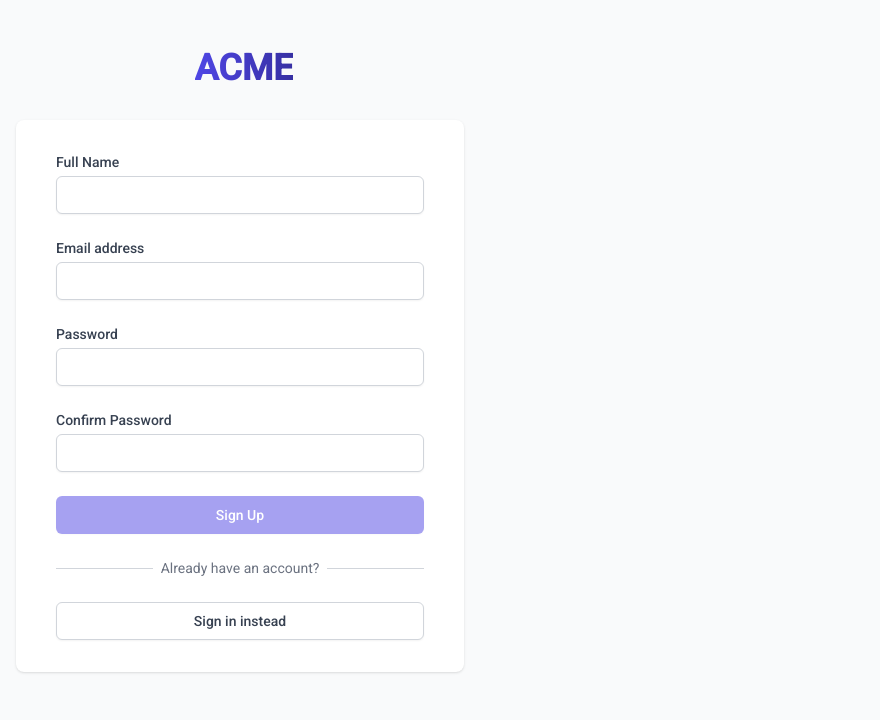
it: Sign Up › Registration Flow › should handle existing email error
Type "Existing User" into the field named "name" at (240, 195), box x1=56 y1=176 x2=424 y2=214
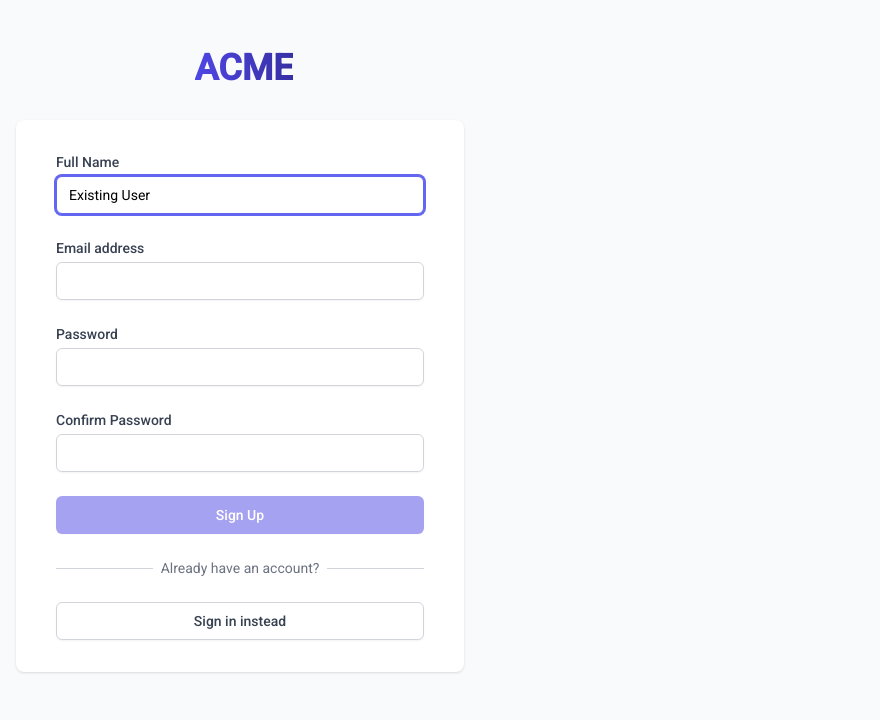
Type "existing@example.com" into the field named "email" at (240, 281), box x1=56 y1=262 x2=424 y2=300
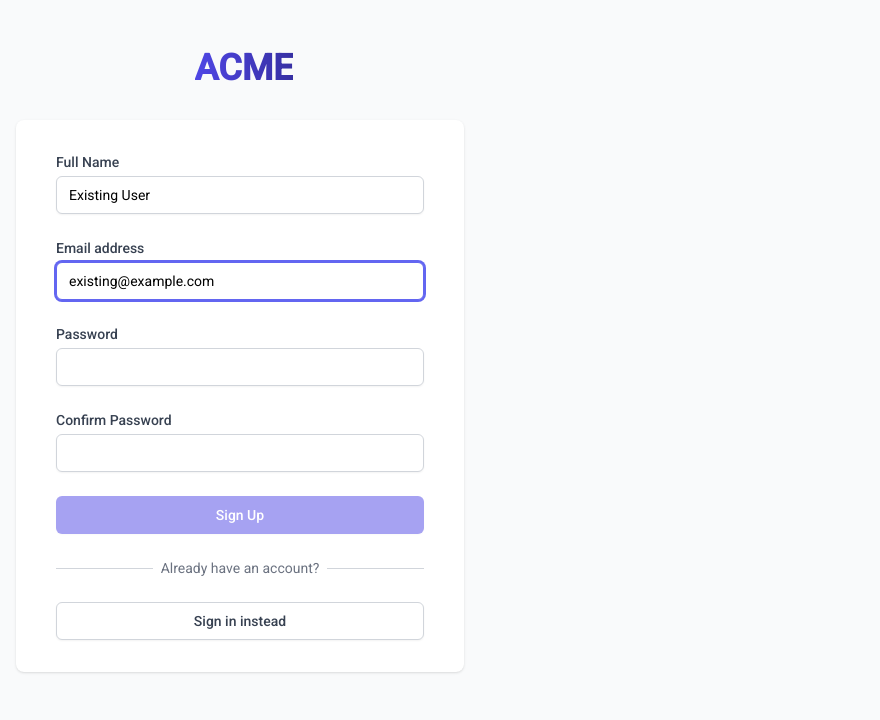
Type "password123" into the password field named "password" at (240, 367), box x1=56 y1=348 x2=424 y2=386
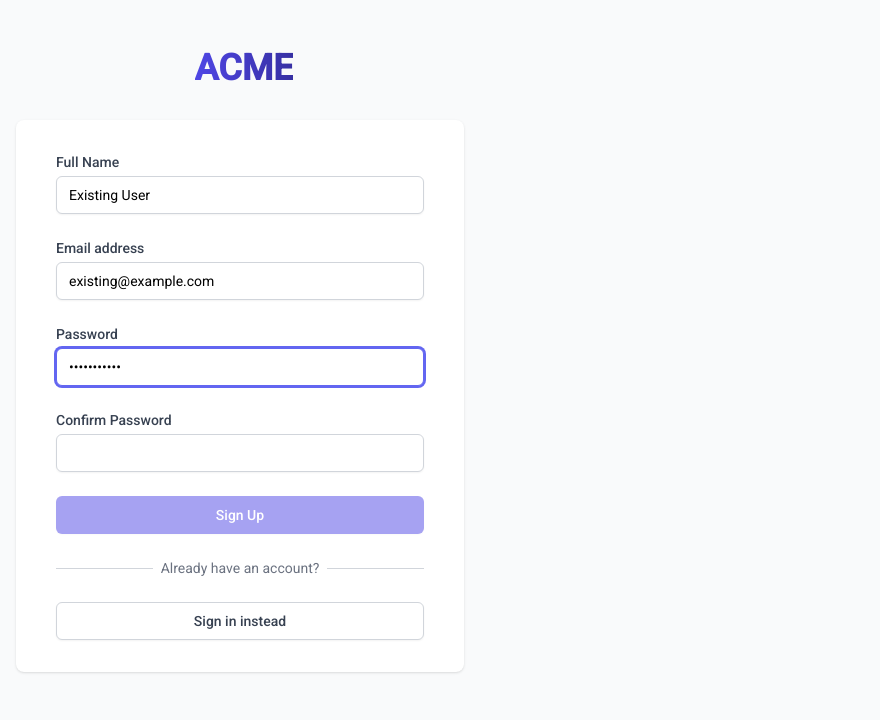
Type "password123" into the password field named "confirmPassword" at (240, 453), box x1=56 y1=434 x2=424 y2=472
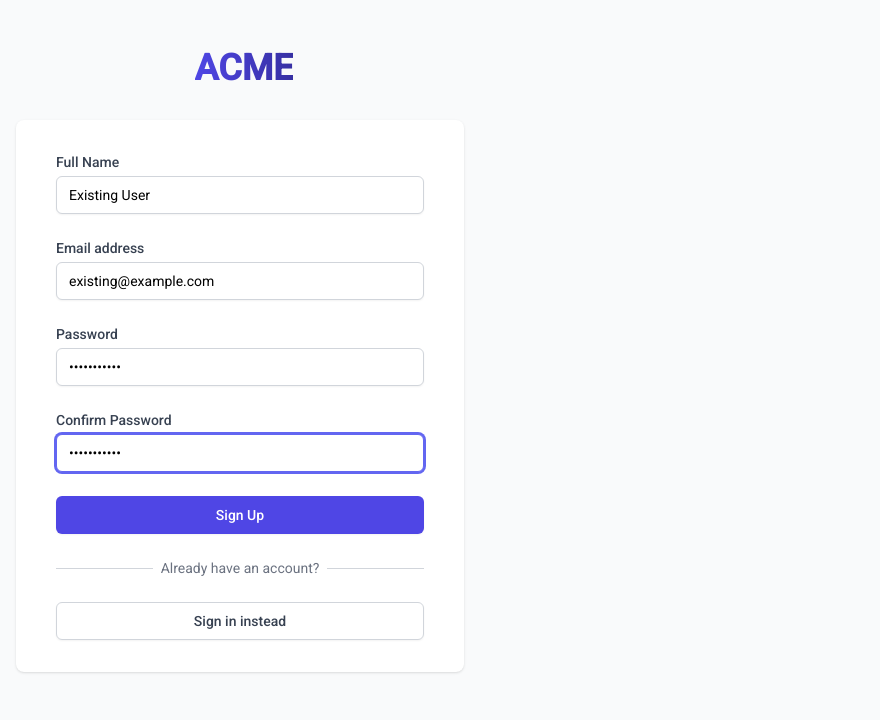
Click the submit button at (240, 515), box x1=56 y1=496 x2=424 y2=534
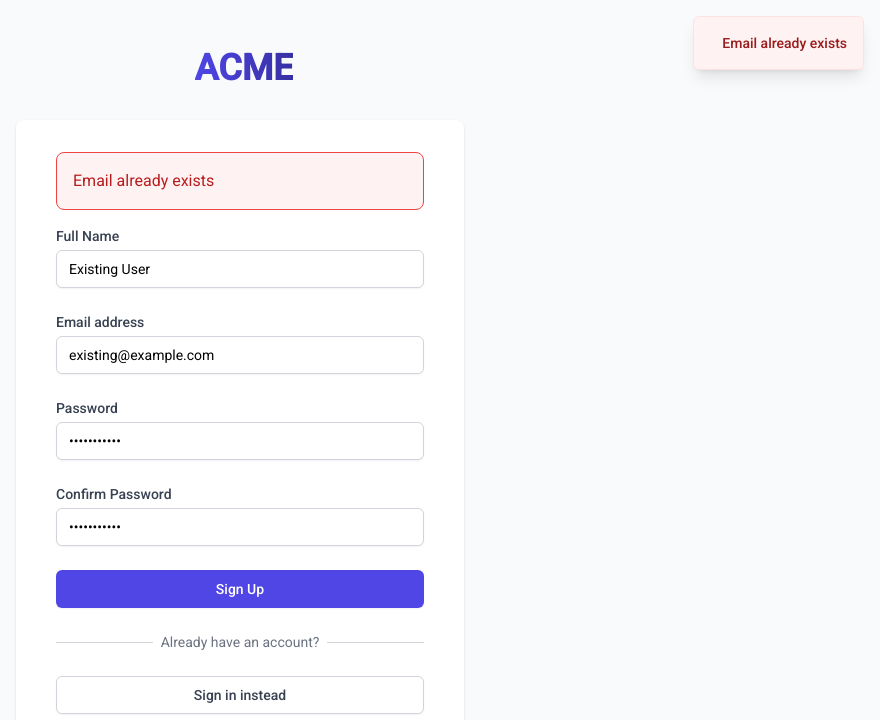
Check: the message "Email already exists" is shown, box x1=56 y1=152 x2=424 y2=210
